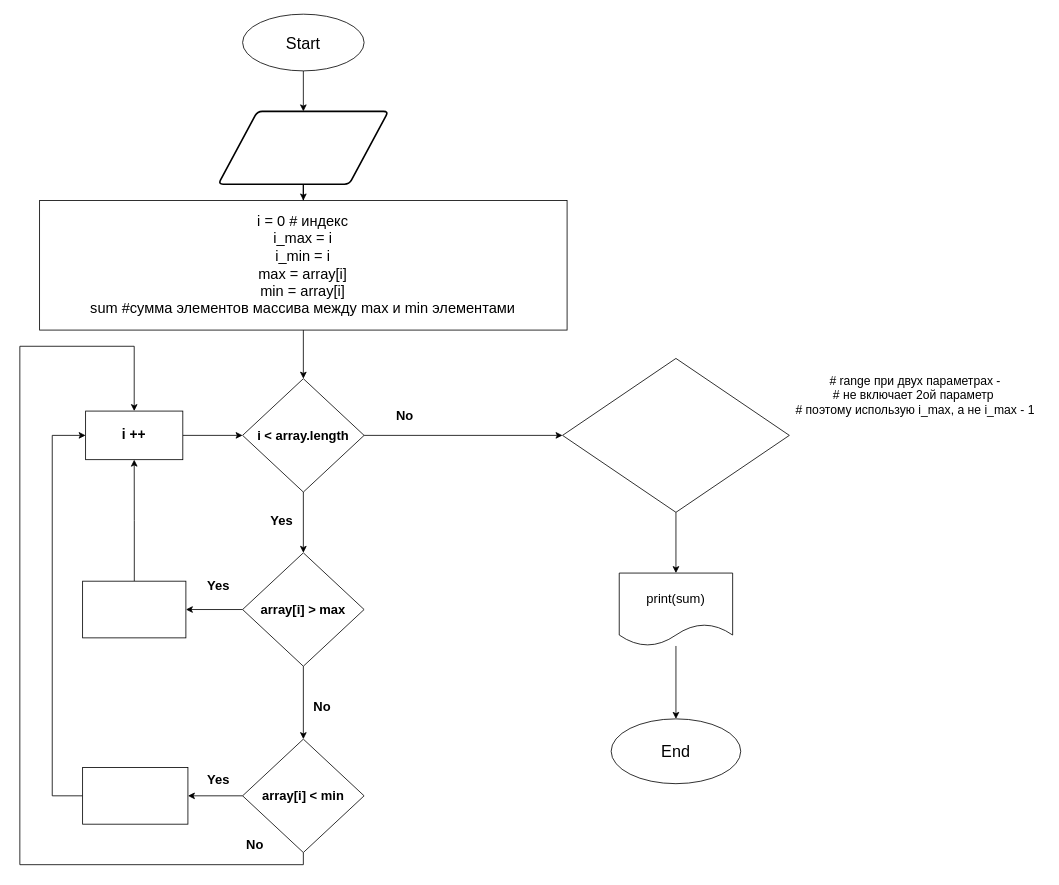
Some shapes in this 1059 by 885 pixel diagram are drawn without their labels. The shapes that lost their labels are listed below. From the top down, each one's centre as x and y in pixels, then its label:
At point (303, 147): "array #массив".
At point (675, 435): "for i in range (i_min + 1, i_max) sum += array[i]".
At point (134, 609): "max = array[i] i_max = i".
At point (135, 795): "min = array[i] i_min = i".
